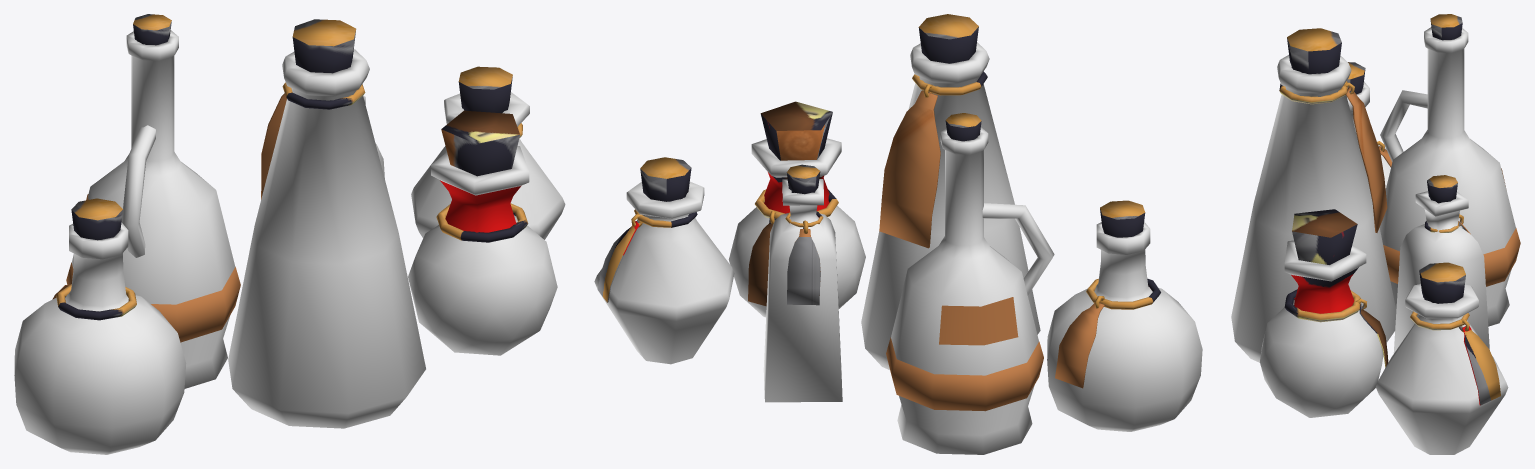
The model's file is combination2LP.fbx.
The picture shows the model from 3 angles, left to right: view 1: azimuth 30°, elevation 25°; view 2: azimuth 150°, elevation 25°; view 3: azimuth 270°, elevation 25°; orthographic projection. The views are drawn at different scales.
Parts seen in each view (by area): view 1: glassC2, potionC2; view 2: glassC2, potionC2; view 3: glassC2, potionC2.
Part boxes in pixels (x1,y1,x2,y2): glassC2: (14, 30, 565, 454); potionC2: (52, 14, 528, 342); glassC2: (594, 42, 1202, 454); potionC2: (597, 14, 1160, 411); glassC2: (1231, 27, 1515, 454); potionC2: (1279, 14, 1520, 405).
Size of the model in its own units: 222 by 132 by 112.
